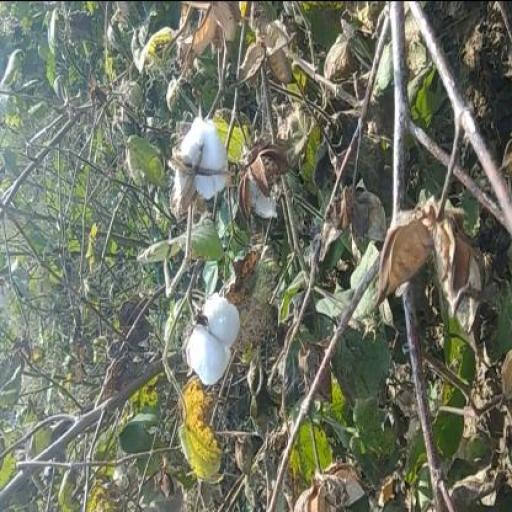cotton_ready: (167, 278, 245, 400), (167, 99, 240, 220)
